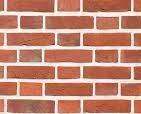brick: (82, 64, 132, 80), (44, 48, 92, 64), (5, 98, 55, 113), (45, 15, 94, 30), (82, 32, 131, 47), (6, 65, 55, 80), (44, 82, 93, 97), (82, 99, 132, 113), (6, 32, 55, 46), (6, 1, 55, 13), (82, 1, 131, 13), (56, 99, 81, 114), (57, 32, 81, 47), (94, 48, 118, 63), (57, 65, 81, 80), (19, 81, 43, 96), (95, 81, 119, 96), (18, 49, 43, 63), (19, 15, 43, 29), (95, 16, 119, 30), (120, 48, 141, 62), (121, 15, 141, 29), (57, 1, 80, 13), (1, 14, 18, 29), (1, 80, 17, 95), (121, 83, 141, 95), (1, 49, 17, 63)
